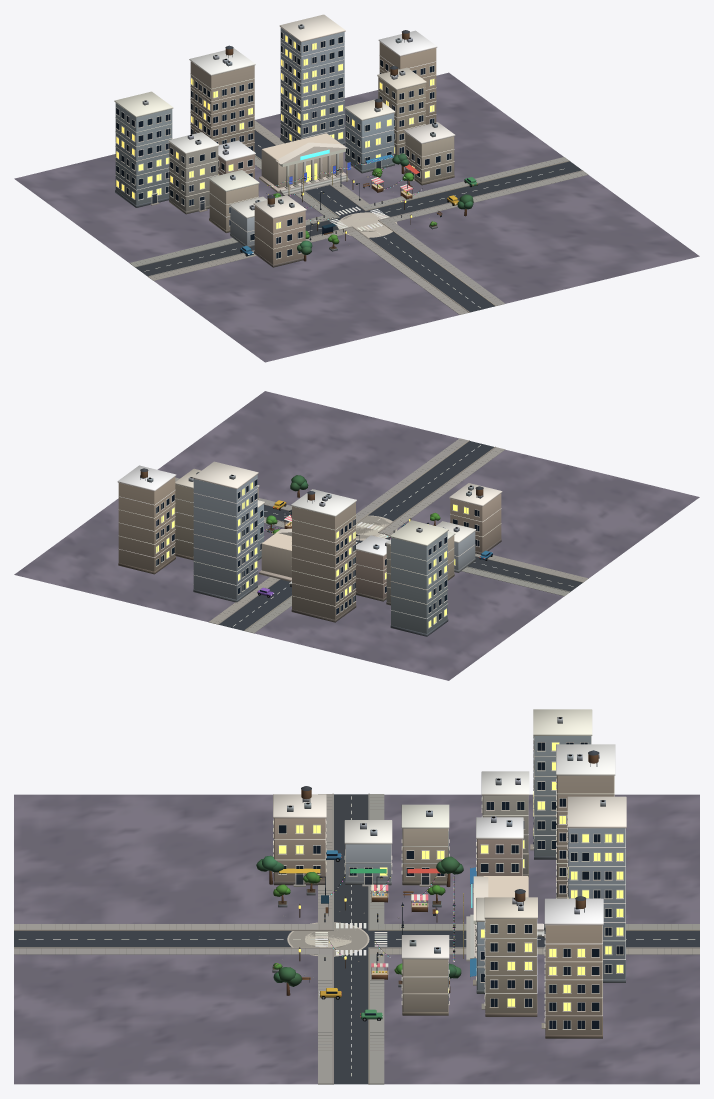
The model's file is journey_home.glb.
3 renders of one model, top to bottom at view 1: azimuth 30°, elevation 25°; view 2: azimuth 150°, elevation 25°; view 3: azimuth 270°, elevation 25°, orthographic. The views are drawn at different scales.
Parts seen in each view (by area): view 1: Scenery_Journey Ground.011, Scenery_Journey Plaster.010, Scenery_Journey Stone.012, Scenery_Journey Paint.010, Scenery_Journey Glass.009, Scenery_Journey Glow warm.008, Scenery_Journey Steel.010, Scenery_Journey Foliage.006, Scenery_Journey Wood.008; view 2: Scenery_Journey Ground.011, Scenery_Journey Plaster.010, Scenery_Journey Stone.012, Scenery_Journey Paint.010, Scenery_Journey Glass.009, Scenery_Journey Glow warm.008, Scenery_Journey Steel.010; view 3: Scenery_Journey Ground.011, Scenery_Journey Stone.012, Scenery_Journey Plaster.010, Scenery_Journey Paint.010, Scenery_Journey Glass.009, Scenery_Journey Glow warm.008, Scenery_Journey Foliage.006, Scenery_Journey Steel.010, Scenery_Journey Fabric.006, Scenery_Journey Wood.008.
Part boxes in pixels (bbox=[...]): Scenery_Journey Ground.011: bbox=[14, 72, 699, 362]; Scenery_Journey Plaster.010: bbox=[115, 28, 454, 264]; Scenery_Journey Stone.012: bbox=[114, 14, 588, 314]; Scenery_Journey Paint.010: bbox=[116, 31, 564, 308]; Scenery_Journey Glass.009: bbox=[116, 32, 470, 258]; Scenery_Journey Glow warm.008: bbox=[116, 35, 434, 233]; Scenery_Journey Steel.010: bbox=[142, 24, 470, 255]; Scenery_Journey Foliage.006: bbox=[273, 153, 473, 254]; Scenery_Journey Wood.008: bbox=[225, 33, 442, 240]; Scenery_Journey Ground.011: bbox=[14, 391, 699, 680]; Scenery_Journey Plaster.010: bbox=[118, 474, 501, 633]; Scenery_Journey Stone.012: bbox=[117, 438, 588, 636]; Scenery_Journey Paint.010: bbox=[155, 445, 573, 627]; Scenery_Journey Glass.009: bbox=[156, 479, 490, 619]; Scenery_Journey Glow warm.008: bbox=[156, 482, 468, 627]; Scenery_Journey Steel.010: bbox=[140, 468, 492, 597]; Scenery_Journey Ground.011: bbox=[14, 794, 699, 1084]; Scenery_Journey Stone.012: bbox=[14, 709, 699, 1084]; Scenery_Journey Plaster.010: bbox=[274, 736, 625, 1034]; Scenery_Journey Paint.010: bbox=[18, 736, 695, 1076]; Scenery_Journey Glass.009: bbox=[279, 736, 623, 1028]; Scenery_Journey Glow warm.008: bbox=[279, 742, 623, 1010]; Scenery_Journey Foliage.006: bbox=[256, 855, 463, 986]; Scenery_Journey Steel.010: bbox=[278, 717, 605, 1020]; Scenery_Journey Fabric.006: bbox=[279, 867, 476, 976]; Scenery_Journey Wood.008: bbox=[299, 754, 598, 979].
Size of the model in its own units: 120 by 31.32 by 120.
